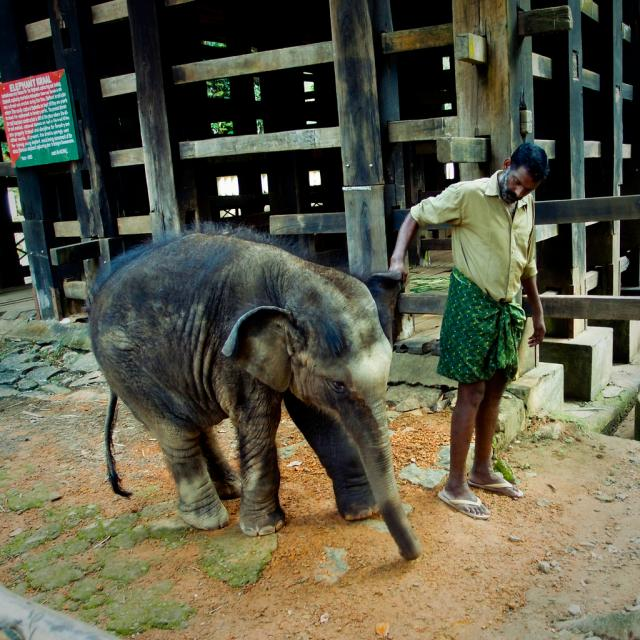Elephant: (84, 227, 422, 560)
